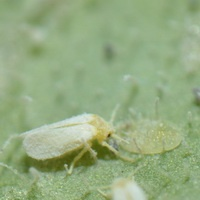insect: (0, 113, 181, 174)
